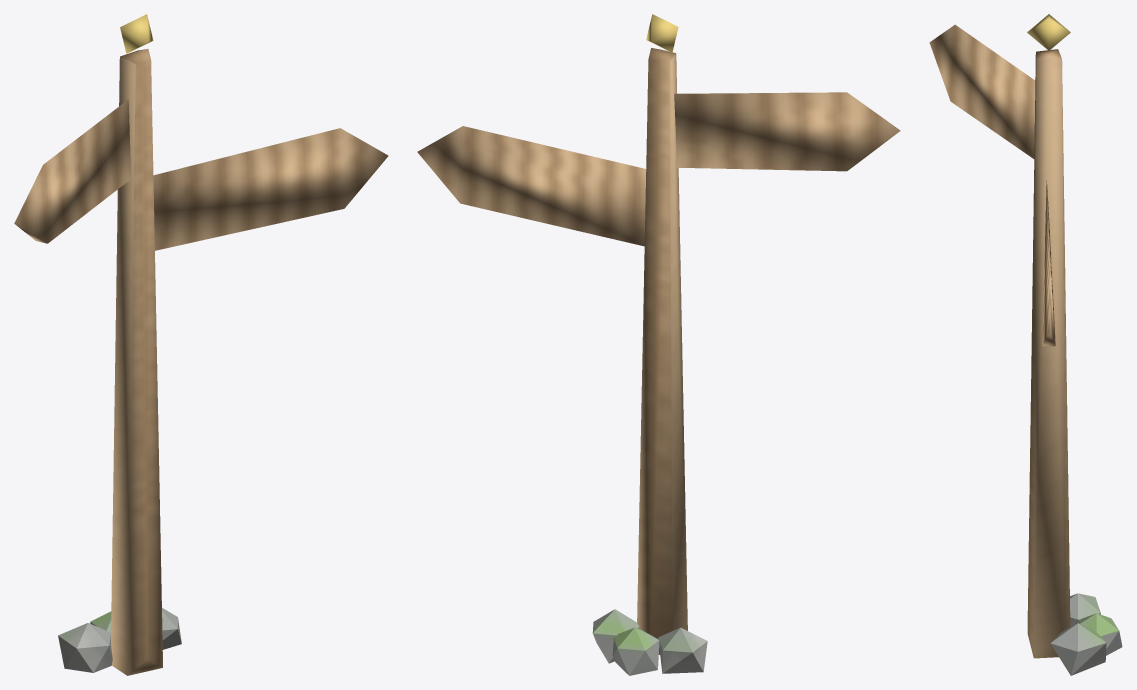
File: signpost_lod1.gltf
3 renders of one model, left to right at view 1: azimuth 30°, elevation 25°; view 2: azimuth 150°, elevation 25°; view 3: azimuth 270°, elevation 25°, orthographic. The views are drawn at different scales.
Parts seen in each view (by area): view 1: signpost_LOD1; view 2: signpost_LOD1; view 3: signpost_LOD1.
Boxes of the visible parts, box(x1,y1,x2,y2) form: signpost_LOD1: box(14, 14, 388, 675); signpost_LOD1: box(417, 14, 900, 675); signpost_LOD1: box(929, 14, 1122, 675).
Size of the model in its own units: 1.64 by 2.34 by 0.6461.
Materials: 1 (1 with a texture image).
